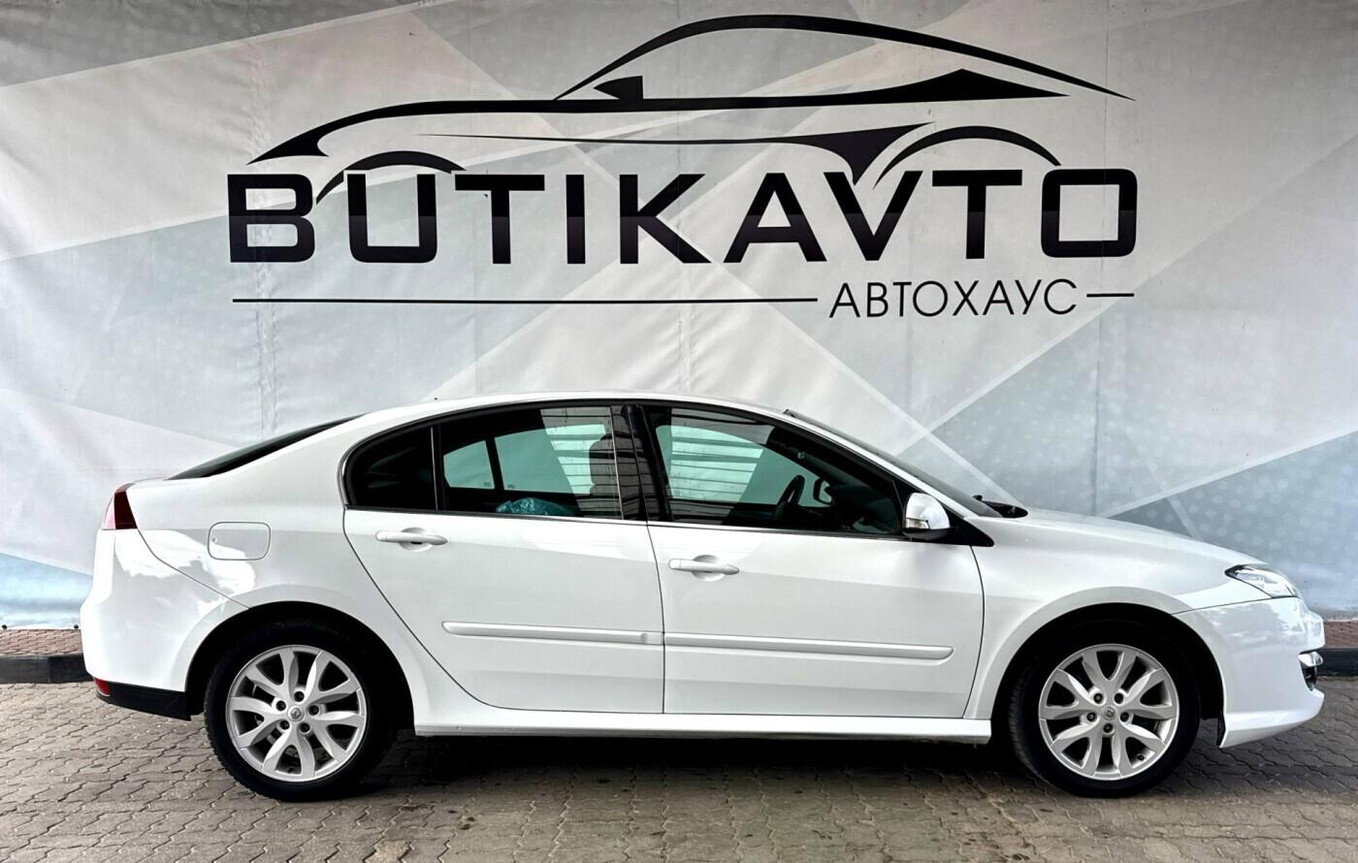Laguna_2010-2015: (62, 375, 1330, 798)
